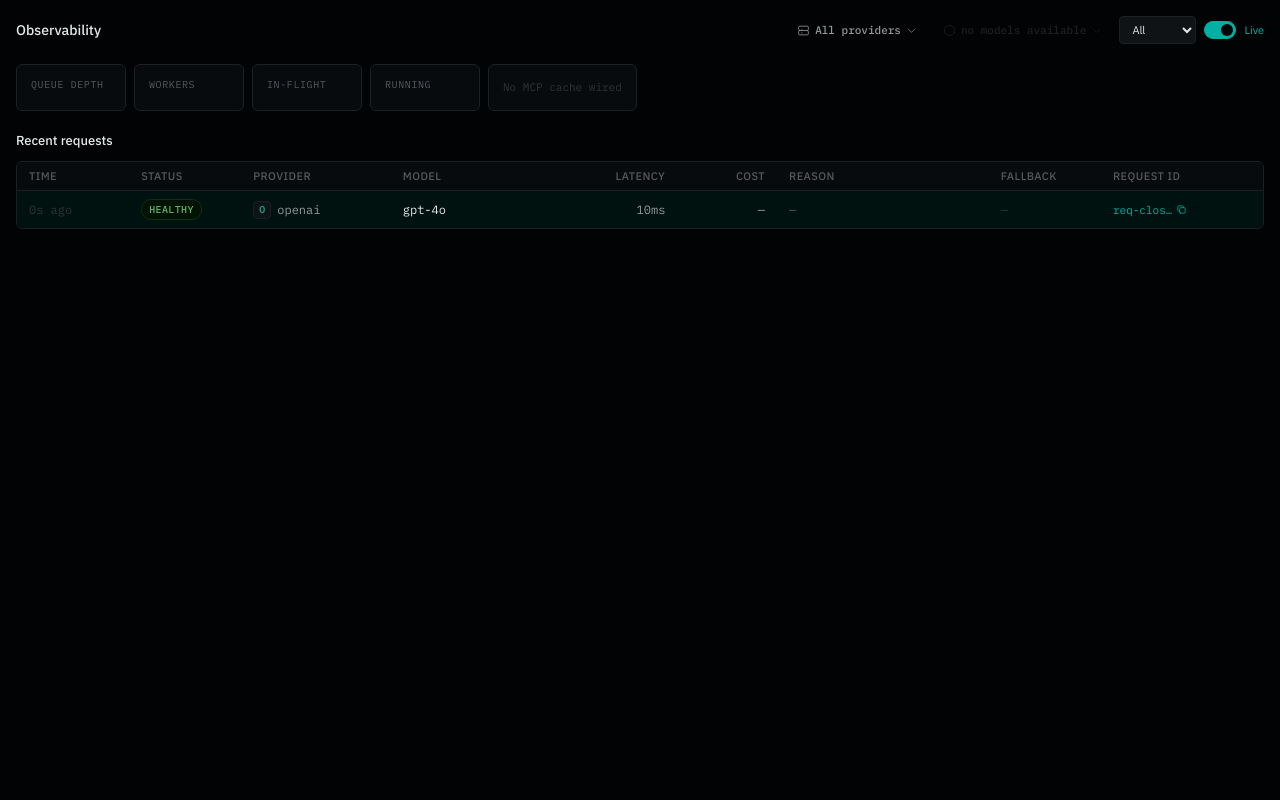
it: ObservabilityView › X button closes the bottom drawer and clears the selection
The width and height of the screenshot is (1280, 800).
Expected: the element that starts with "Observability" shows "req-clos", [1113,202,1187,218]
Click the row "0s ago Healthy O openai gpt-4o 10ms — — — req-clos…" at (640, 209), box [17,190,1263,228]
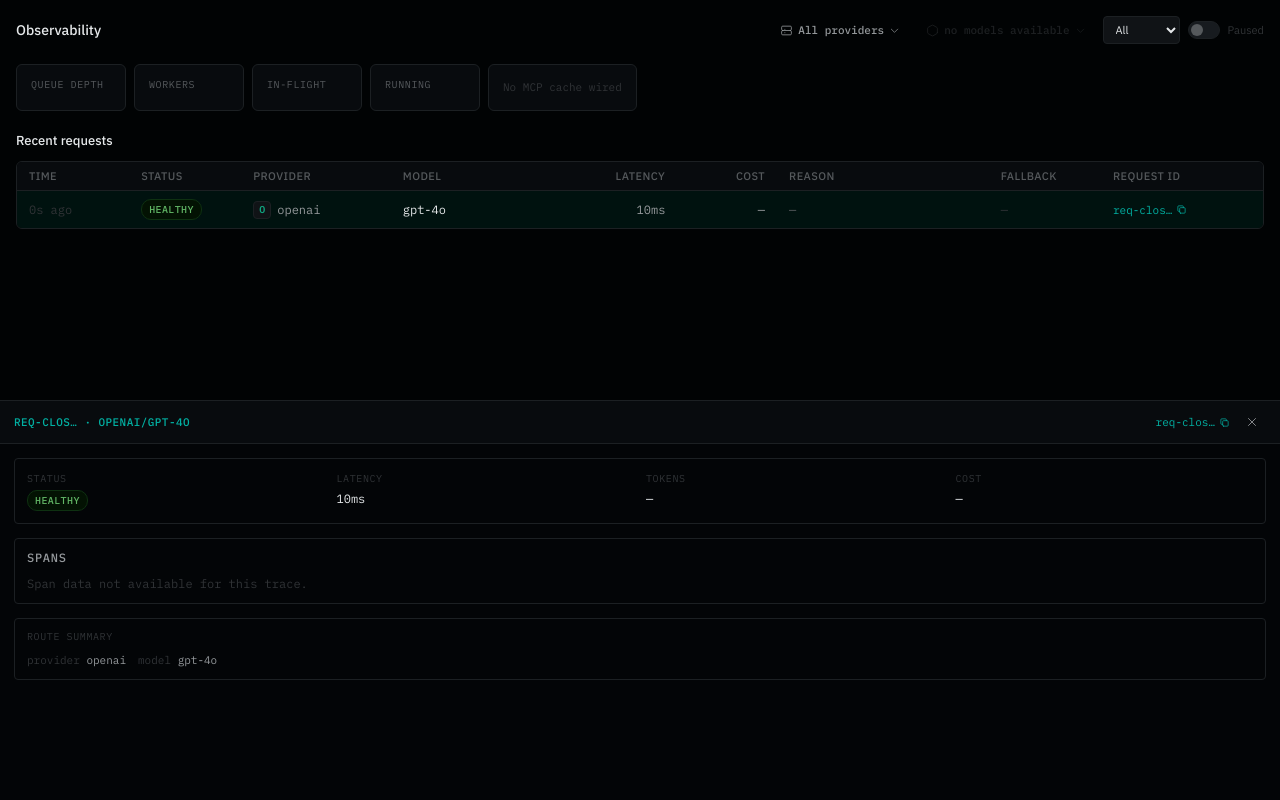
Expected: the dialog is shown, [0,400,1279,799]
Expected: the button named "Close" is shown
Click the button named "Close" at (1252, 422), box [1238,411,1266,433]
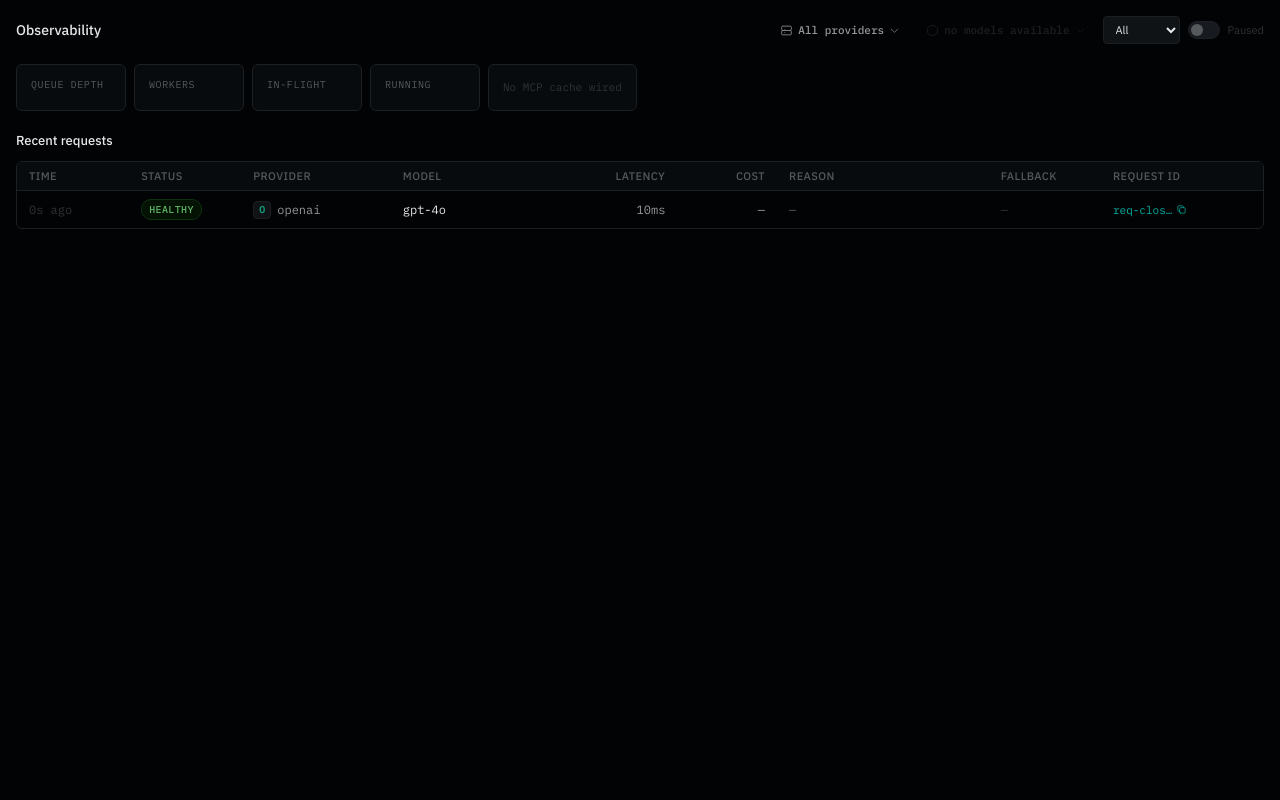
Expected: the dialog is gone
